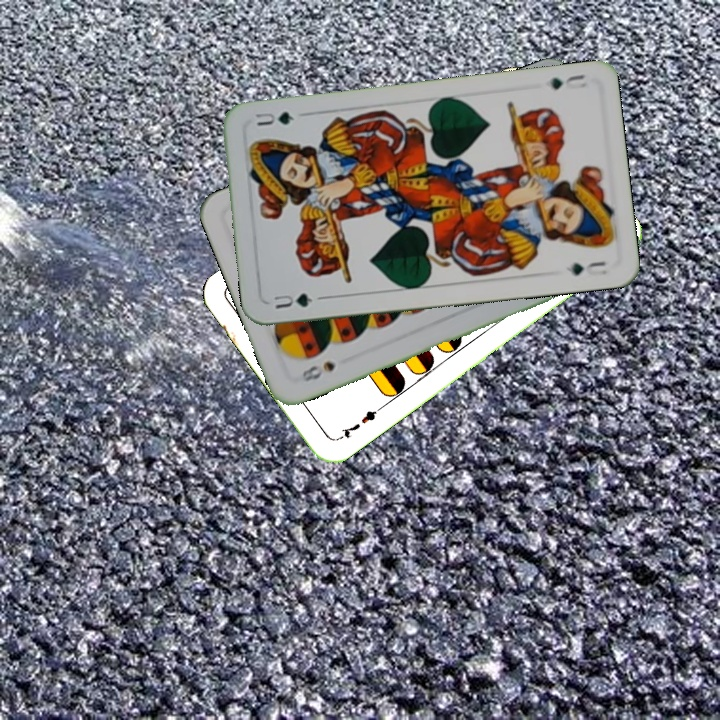E7: (333, 403, 384, 443)
GU: (268, 288, 315, 312), (545, 70, 589, 92)
S8: (293, 357, 338, 385)
